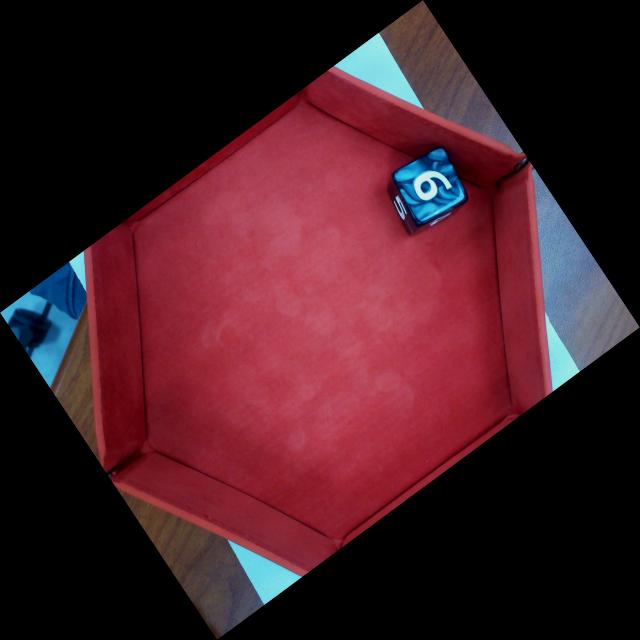dice: (392, 144, 471, 232)
